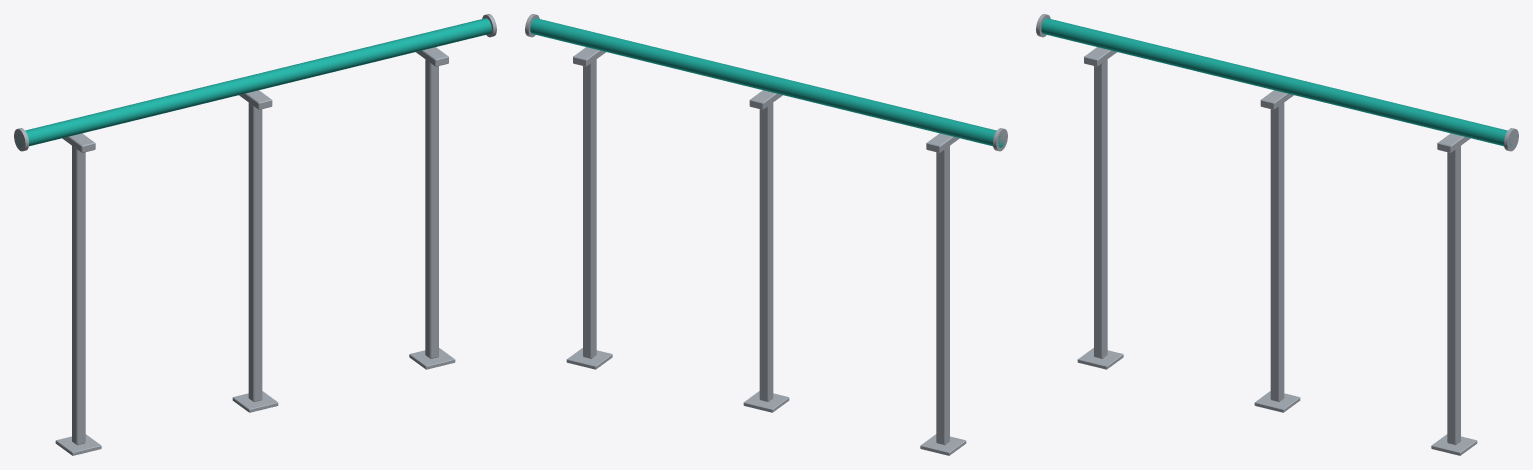
Rendered from pipe-run-long.glb.
3 renders of one model, left to right at view 1: azimuth 30°, elevation 25°; view 2: azimuth 150°, elevation 25°; view 3: azimuth 330°, elevation 25°, orthographic.
Parts seen in each view (by area): view 1: pipe-run-long; view 2: pipe-run-long; view 3: pipe-run-long.
Part boxes in pixels (x1,y1,x2,y2): pipe-run-long: (14, 14, 496, 455); pipe-run-long: (525, 14, 1007, 455); pipe-run-long: (1036, 14, 1518, 455).
Size of the model in its own units: 4 by 2.68 by 0.3.
